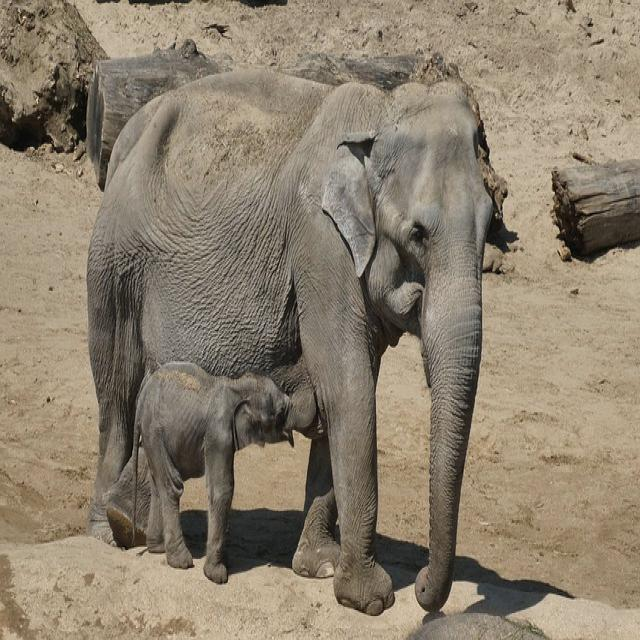FIL: (81, 77, 503, 618), (131, 359, 325, 585)
